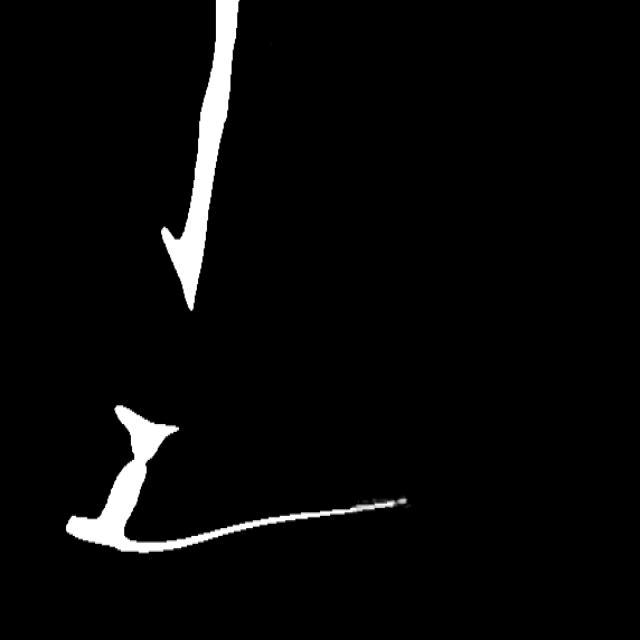stp: (387, 488, 411, 518)
